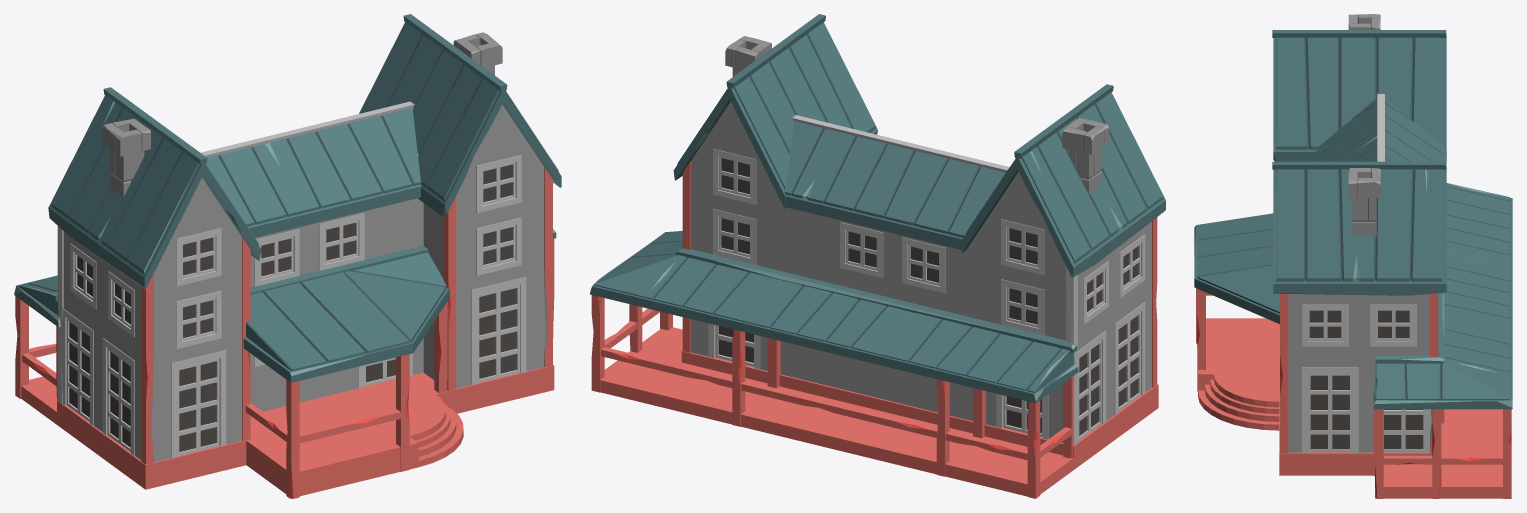
Rendered from House_7.fbx.
3 views of the same model, side by side, from view 1: azimuth 30°, elevation 25°; view 2: azimuth 150°, elevation 25°; view 3: azimuth 270°, elevation 25° (orthographic). The views are drawn at different scales.
Parts seen in each view (by area): view 1: House_7.001; view 2: House_7.001; view 3: House_7.001.
Boxes of the visible parts, <box> form: House_7.001: <box>14,14,561,498</box>; House_7.001: <box>590,14,1165,498</box>; House_7.001: <box>1194,14,1512,498</box>.
Bounding box in the file's own units: 451 × 296 × 296.
